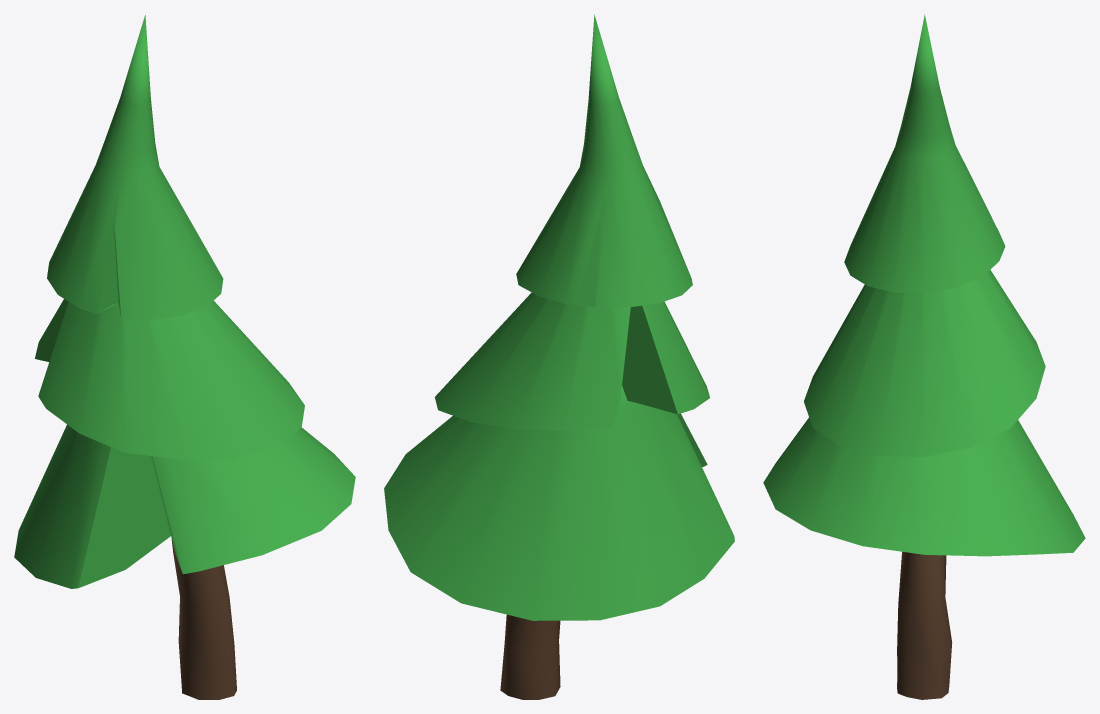
Rendered from WF_PCGTree.04.glb.
3 renders of one model, left to right at view 1: azimuth 30°, elevation 25°; view 2: azimuth 150°, elevation 25°; view 3: azimuth 270°, elevation 25°, orthographic. The views are drawn at different scales.
Parts seen in each view (by area): view 1: Tree.04; view 2: Tree.04; view 3: Tree.04.
Part boxes in pixels (<box>): Tree.04: <box>14,15,355,699</box>; Tree.04: <box>384,14,734,699</box>; Tree.04: <box>763,14,1085,699</box>.
Size of the model in its own units: 0.6 by 1.33 by 0.5997.
